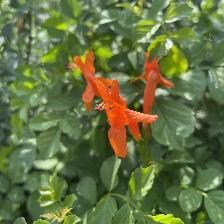honeysuckle: (95, 77, 153, 156)
